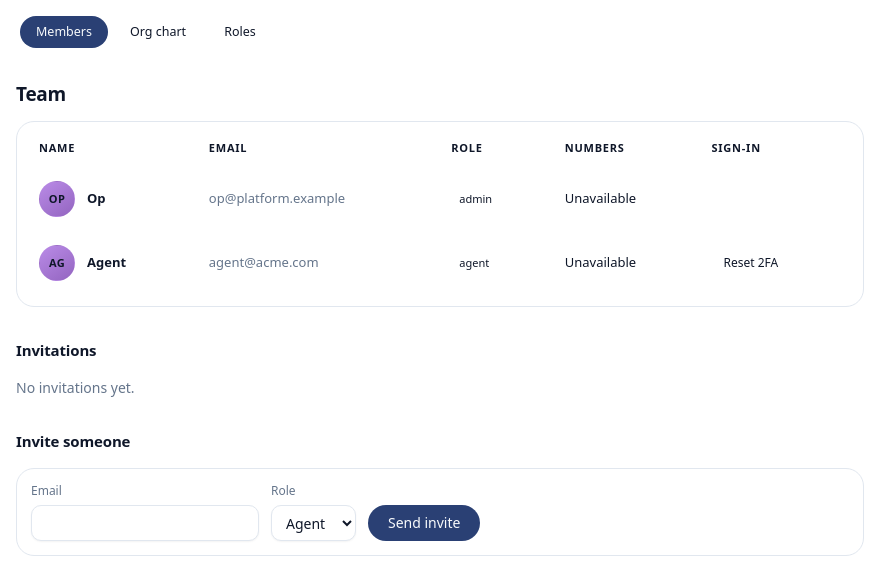
Test: Team page: reset a member's 2FA › asks for confirmation, then resets
Click the button "Reset 2FA" at (751, 263), box [712,247,790,279]
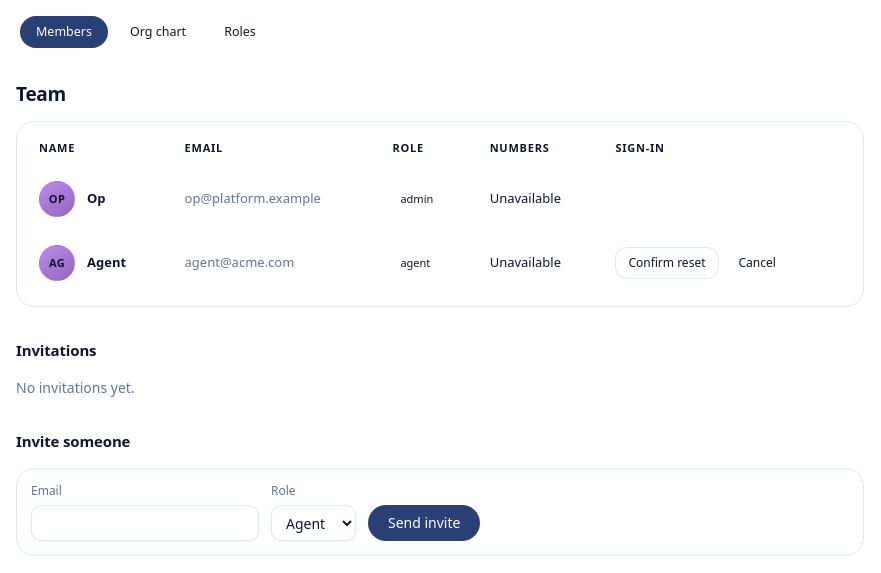
Click the button "Confirm reset" at (667, 263), box [615,247,718,279]
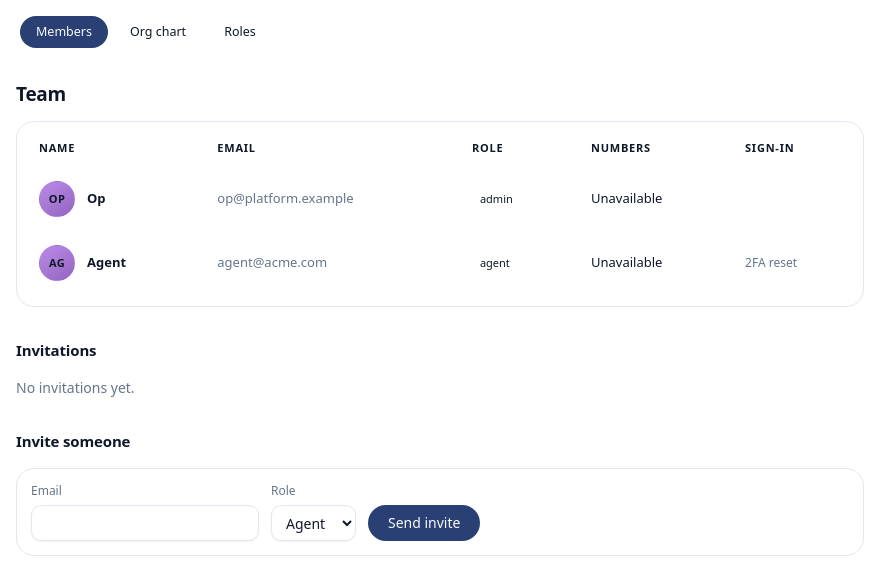
Check: the text "2FA reset" is shown, box [745,254,797,271]
